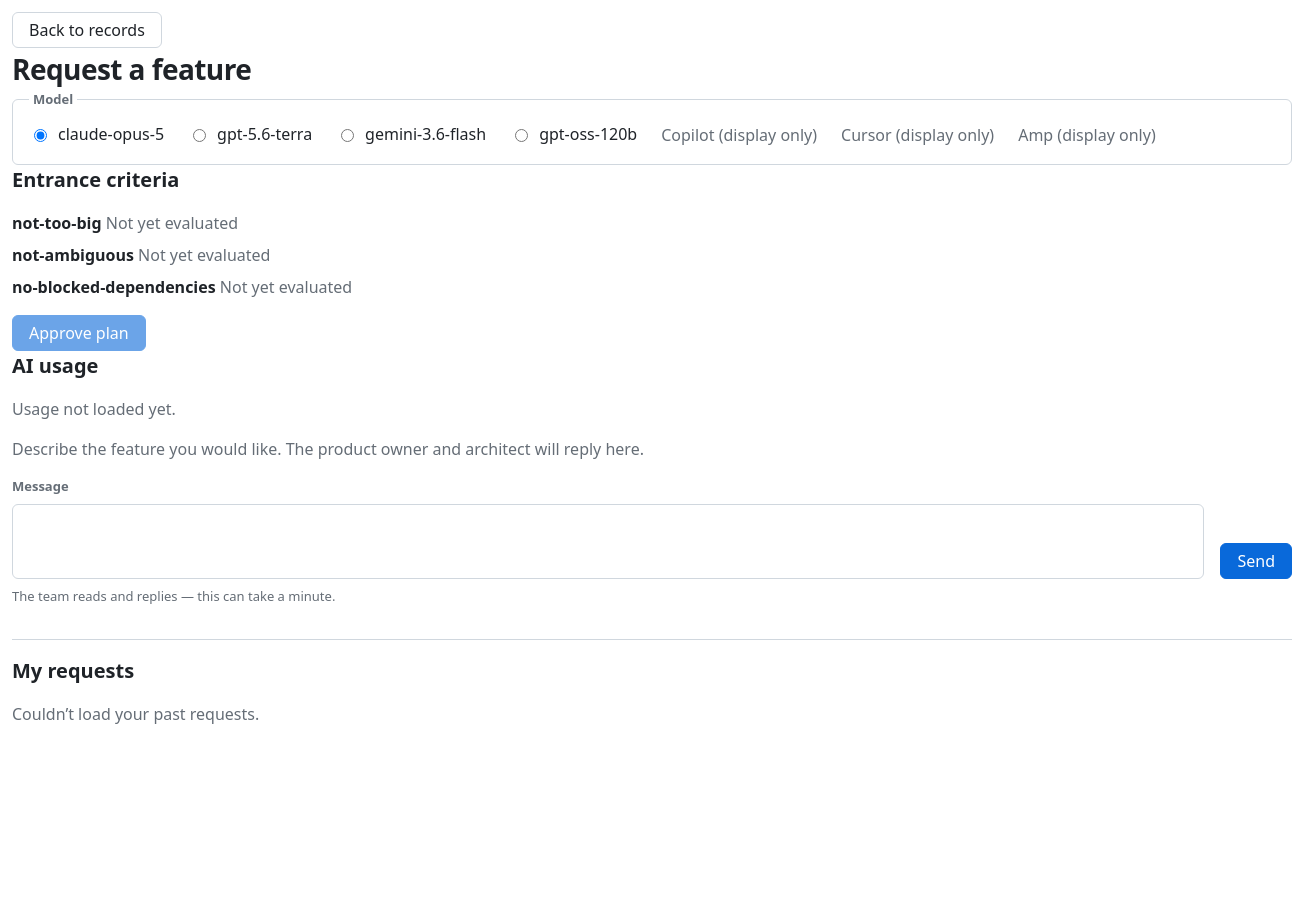
Test: DAN-79 · markdown in agent replies › renders malicious reply content inert: literal <script>, no anchor for javascript: hrefs
Type "hi" into the text box labelled "Message" at (608, 542), box [12, 504, 1204, 579]
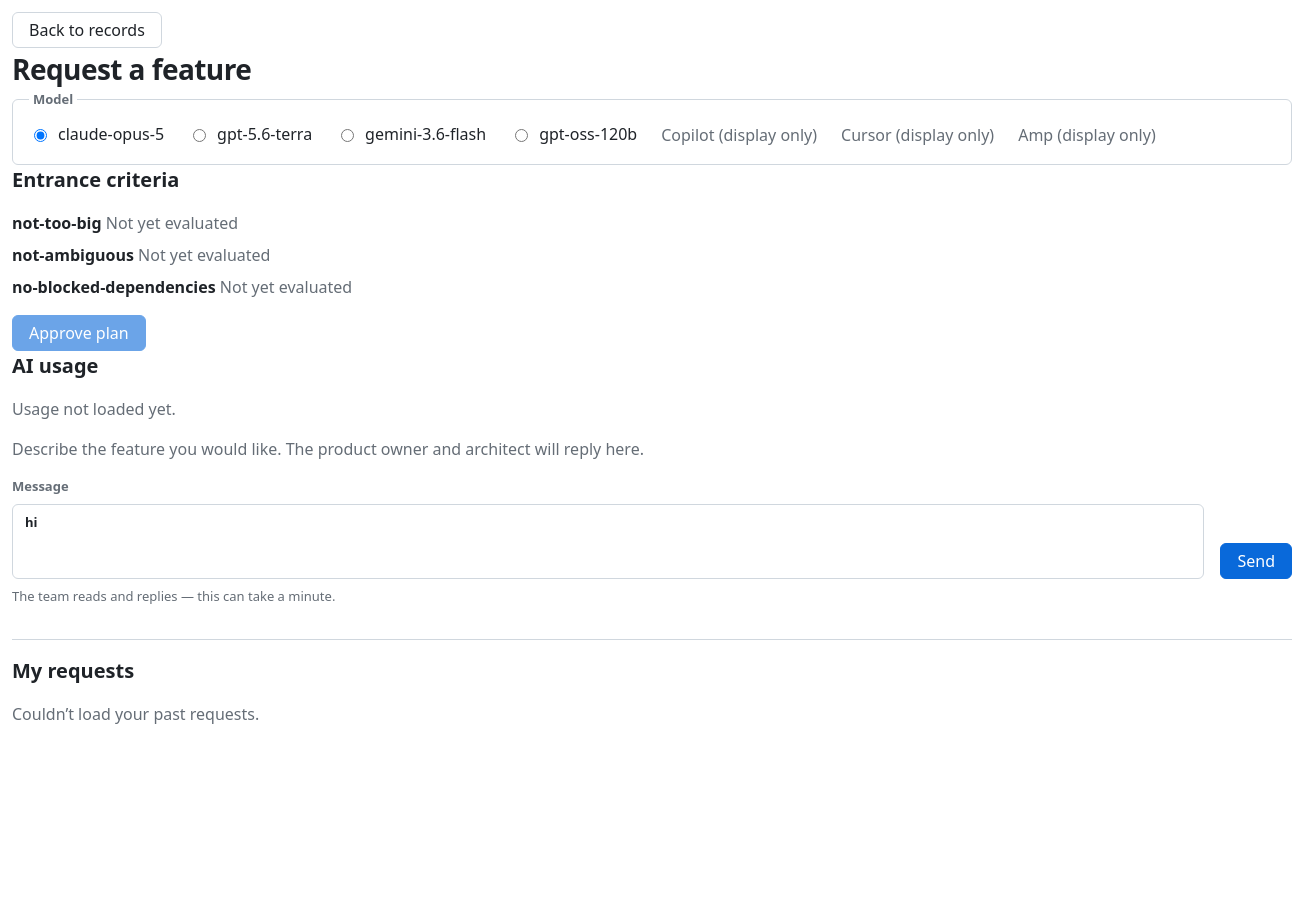
Click the button "Send" at (1256, 561), box [1220, 543, 1292, 579]
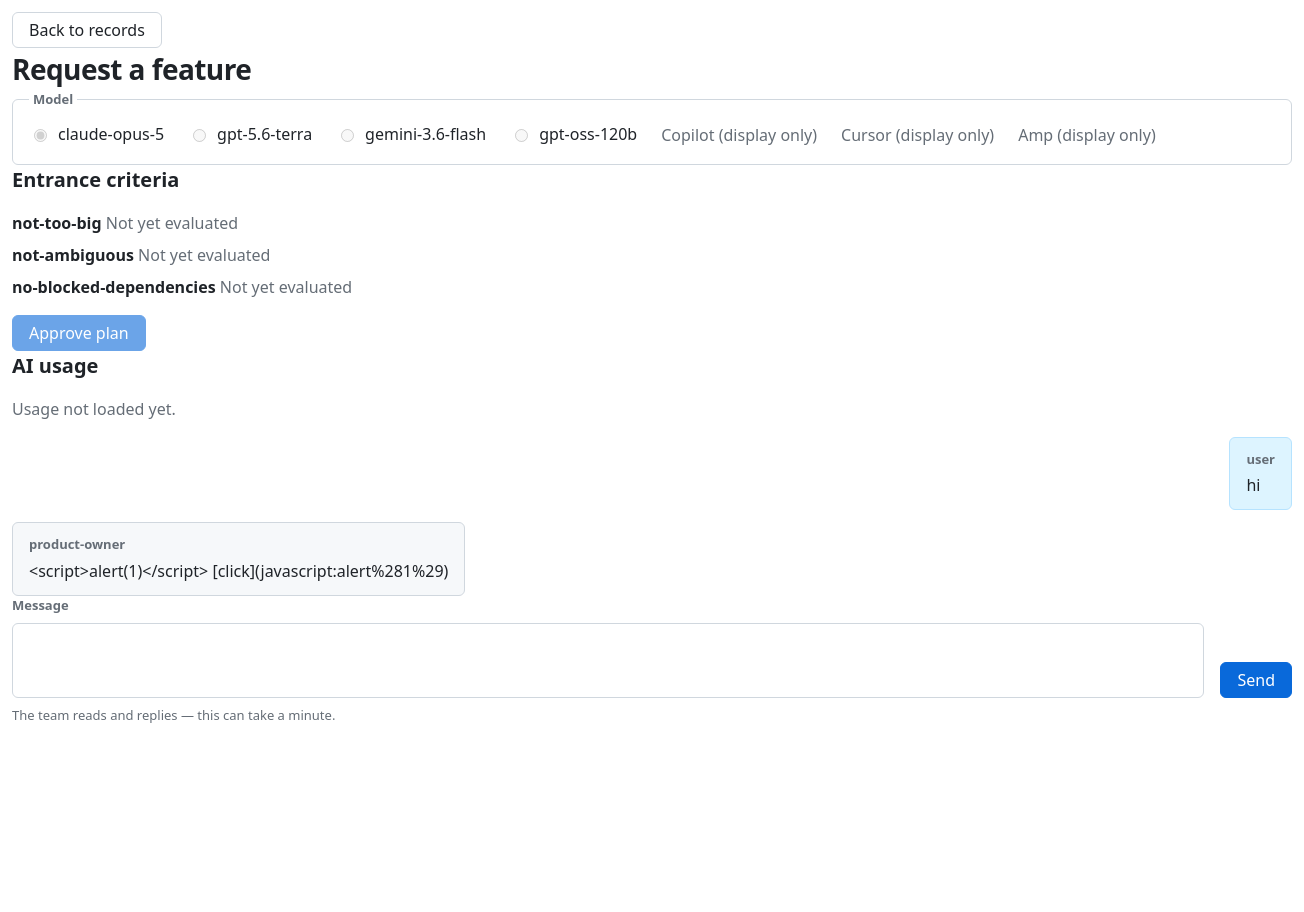
Expected: the text "<script>alert(1)</script>" is shown, [29, 560, 212, 582]
